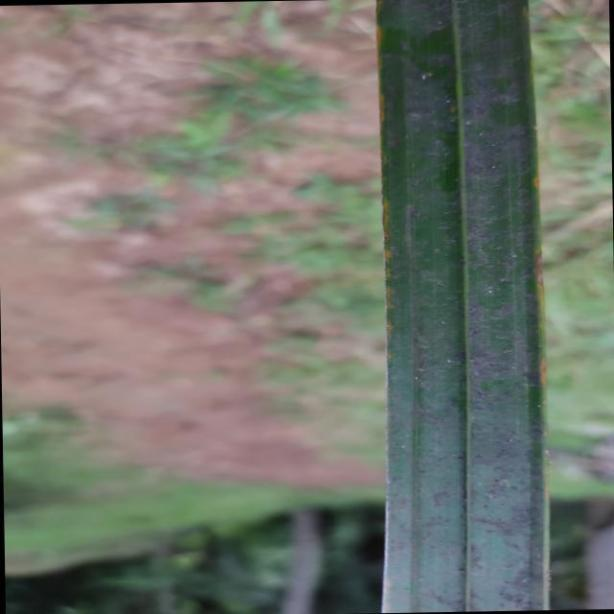Kalium: (371, 0, 550, 614)
